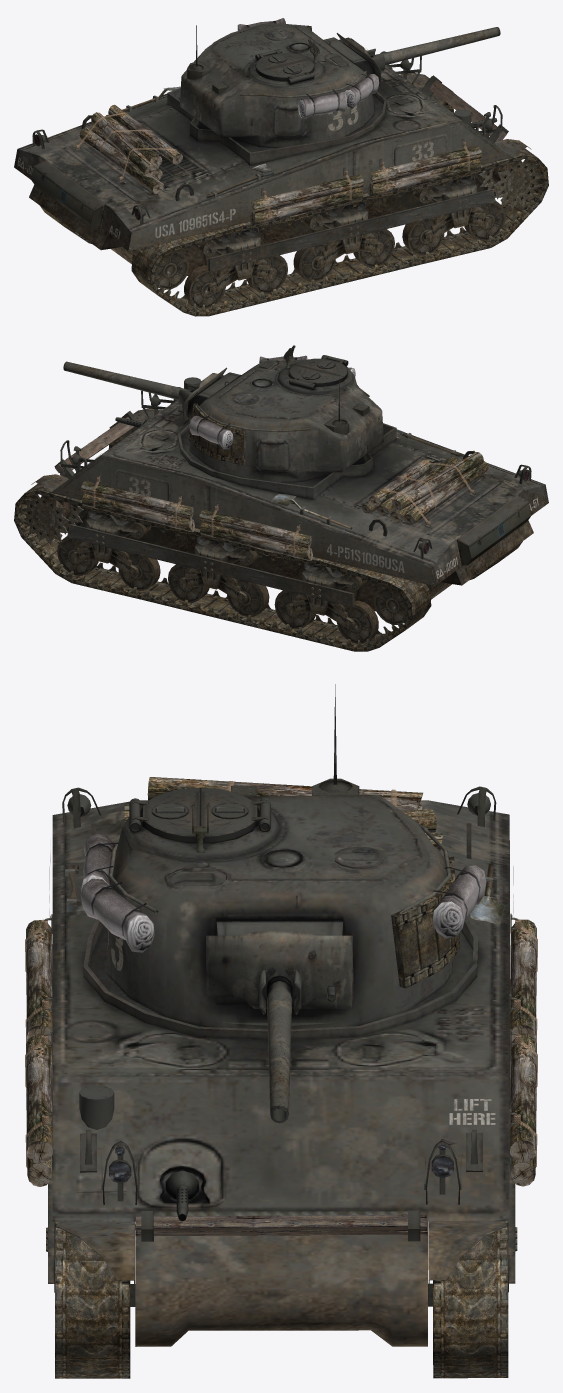
The model's file is sherman_m4a3_green_set_e.glb.
3 renders of one model, top to bottom at view 1: azimuth 30°, elevation 25°; view 2: azimuth 150°, elevation 25°; view 3: azimuth 270°, elevation 25°, orthographic. The views are drawn at different scales.
Parts seen in each view (by area): view 1: Object_11, Object_5, Object_2, Object_6, Object_3, Object_9, Object_8, Object_4, Object_7, Object_10; view 2: Object_11, Object_5, Object_2, Object_6, Object_3, Object_9, Object_13, Object_8, Object_4, Object_7, Object_10; view 3: Object_11, Object_5, Object_2, Object_9, Object_7, Object_13, Object_3, Object_10, Object_4.
Boxes of the visible parts, bbox=[...] form: Object_11: bbox=[14, 23, 531, 293]; Object_5: bbox=[40, 73, 548, 316]; Object_2: bbox=[79, 104, 481, 225]; Object_6: bbox=[154, 101, 541, 308]; Object_3: bbox=[31, 75, 508, 271]; Object_9: bbox=[212, 18, 379, 118]; Object_8: bbox=[17, 49, 434, 238]; Object_4: bbox=[75, 112, 470, 222]; Object_7: bbox=[424, 76, 506, 141]; Object_10: bbox=[144, 154, 373, 225]; Object_11: bbox=[31, 345, 548, 628]; Object_5: bbox=[14, 408, 522, 651]; Object_2: bbox=[81, 452, 488, 560]; Object_6: bbox=[21, 438, 408, 643]; Object_3: bbox=[54, 411, 531, 607]; Object_9: bbox=[189, 355, 369, 449]; Object_13: bbox=[187, 403, 245, 465]; Object_8: bbox=[90, 454, 538, 578]; Object_4: bbox=[92, 461, 474, 557]; Object_7: bbox=[55, 413, 139, 476]; Object_10: bbox=[189, 496, 415, 560]; Object_11: bbox=[52, 684, 509, 1346]; Object_5: bbox=[55, 1221, 508, 1378]; Object_2: bbox=[26, 777, 536, 1173]; Object_9: bbox=[80, 822, 486, 952]; Object_7: bbox=[135, 1214, 427, 1236]; Object_13: bbox=[391, 856, 460, 988]; Object_3: bbox=[42, 913, 520, 1283]; Object_10: bbox=[27, 794, 536, 1186]; Object_4: bbox=[25, 781, 537, 1167].
Bounding box in the file's own units: 604 × 313 × 307.
Materials: 12 (12 with a texture image).
